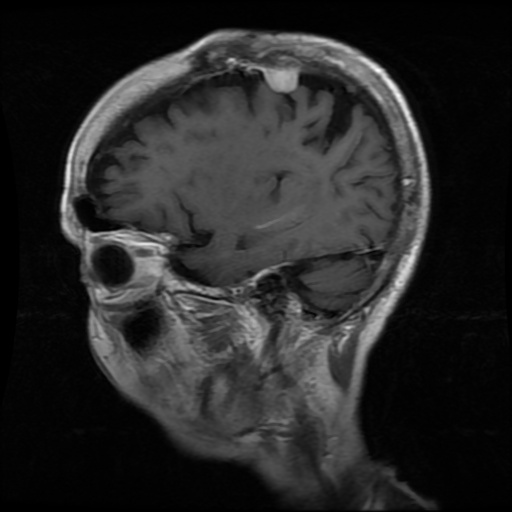meningioma: (265, 66, 299, 91)
